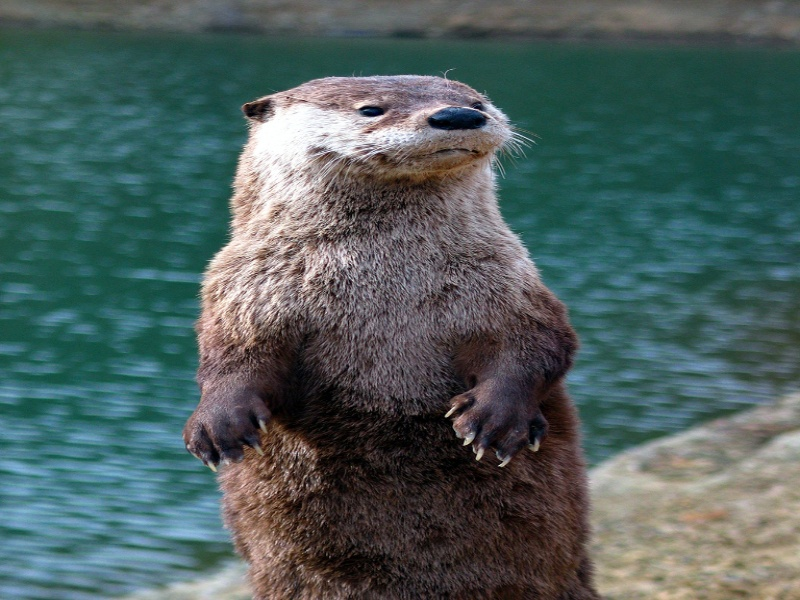minkish: (176, 68, 614, 588)
